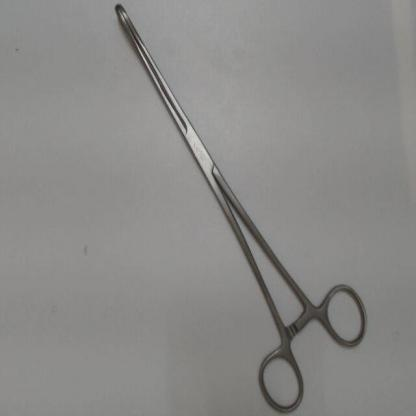Sponge Forceps: (111, 2, 374, 414)
